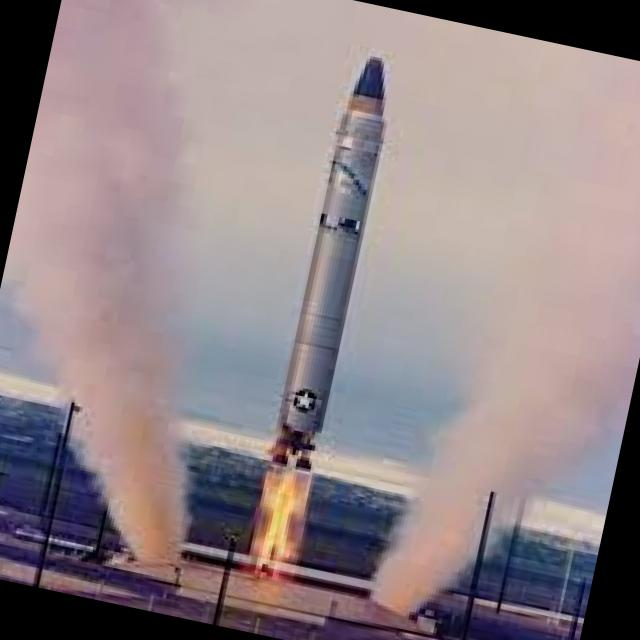rocket: (229, 44, 421, 577)
